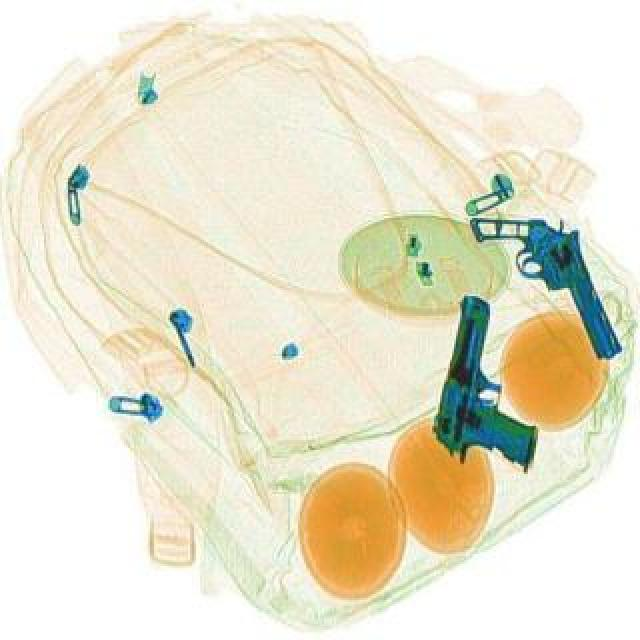gun: (470, 194, 630, 386), (426, 296, 572, 484)
